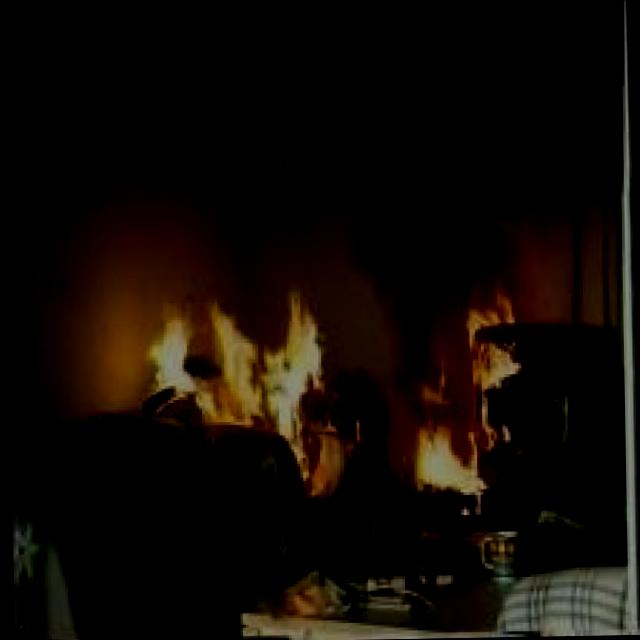fire: (148, 280, 368, 444), (410, 305, 524, 499)
smoke: (247, 13, 604, 292)
